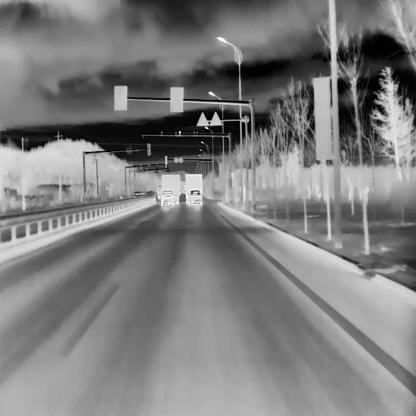car: (161, 190, 174, 206), (188, 189, 201, 205), (146, 190, 154, 198), (140, 190, 147, 197), (134, 191, 140, 197)
truck: (161, 174, 178, 203), (186, 173, 202, 203), (157, 183, 161, 198)
